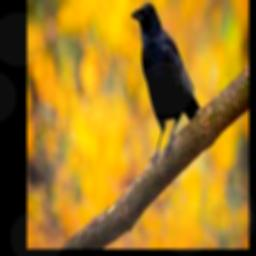Crow: (131, 2, 201, 167)
